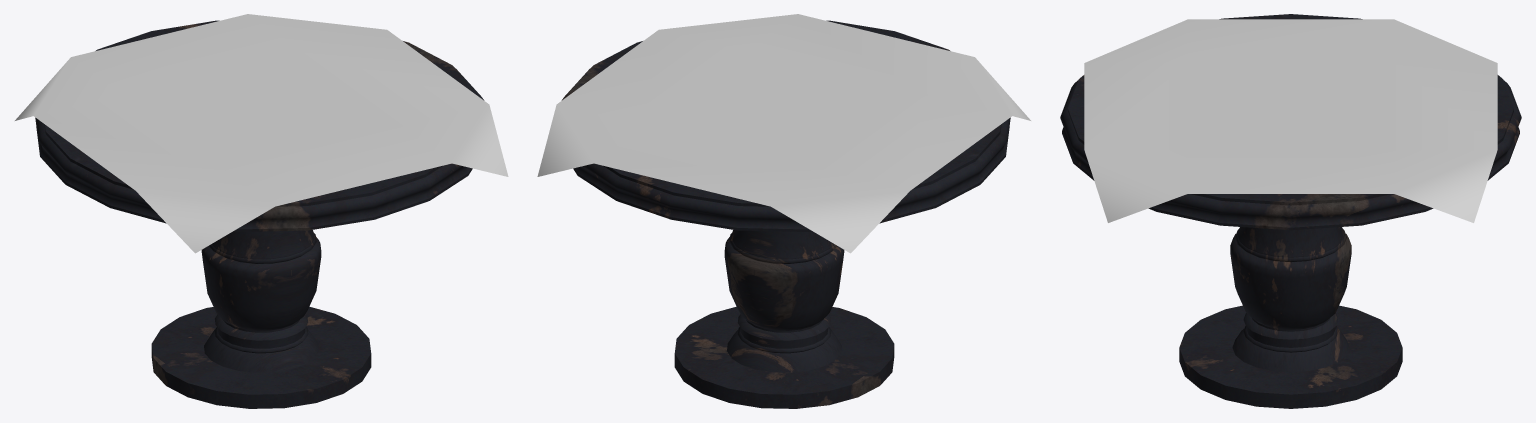
Rendered from M_Table.fbx.
The picture shows the model from 3 angles, left to right: view 1: azimuth 30°, elevation 25°; view 2: azimuth 150°, elevation 25°; view 3: azimuth 270°, elevation 25°; orthographic projection.
Parts seen in each view (by area): view 1: M_Nappe1; view 2: M_Nappe1; view 3: M_Nappe1.
Part boxes in pixels (bbox=[...]): M_Nappe1: bbox=[15, 14, 508, 408]; M_Nappe1: bbox=[537, 14, 1030, 408]; M_Nappe1: bbox=[1060, 14, 1521, 408].
Size of the model in its own units: 16.24 by 9.9 by 16.24.
